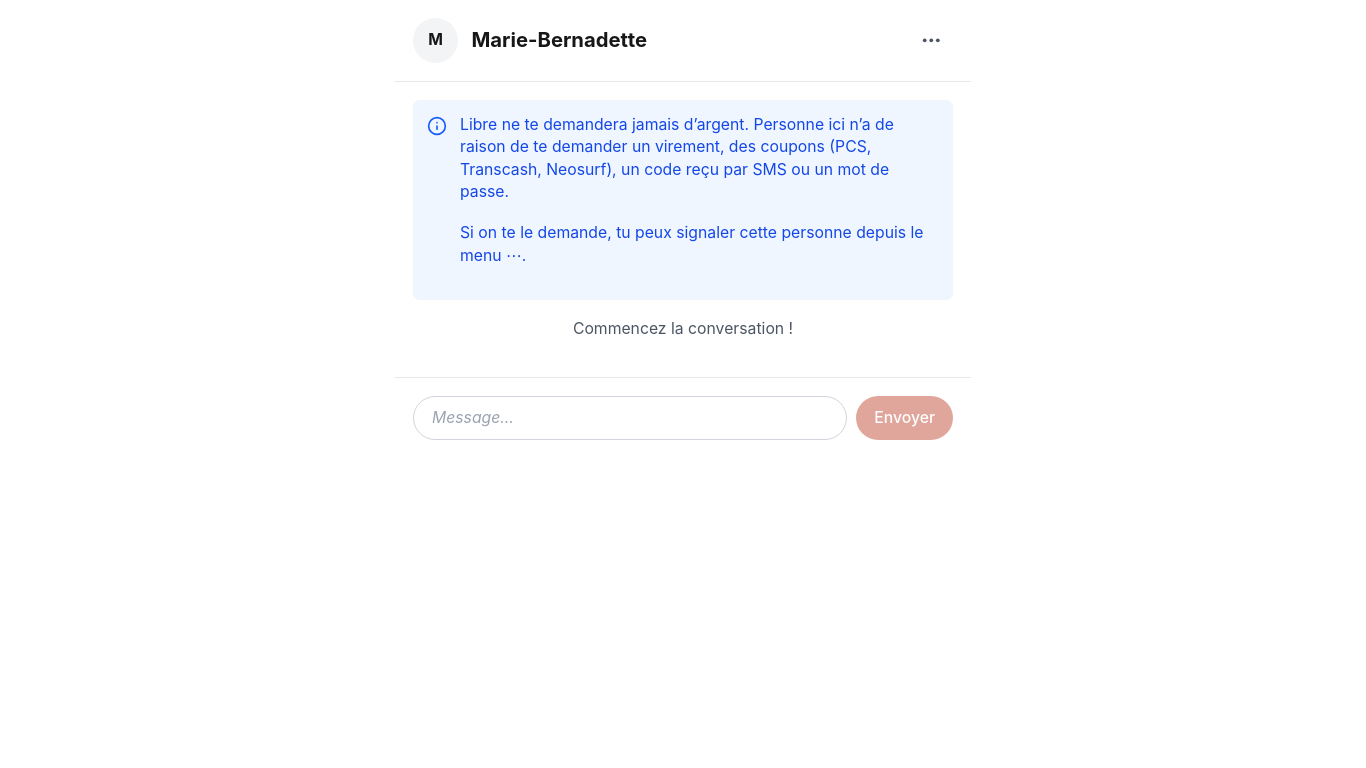
Scenario: en-tête du fil (#417) › le menu liste les deux actions, et le check-in s’ouvre depuis le menu
Click the button named "Plus d’actions" at (931, 40), box left=909, top=18, right=953, bottom=62
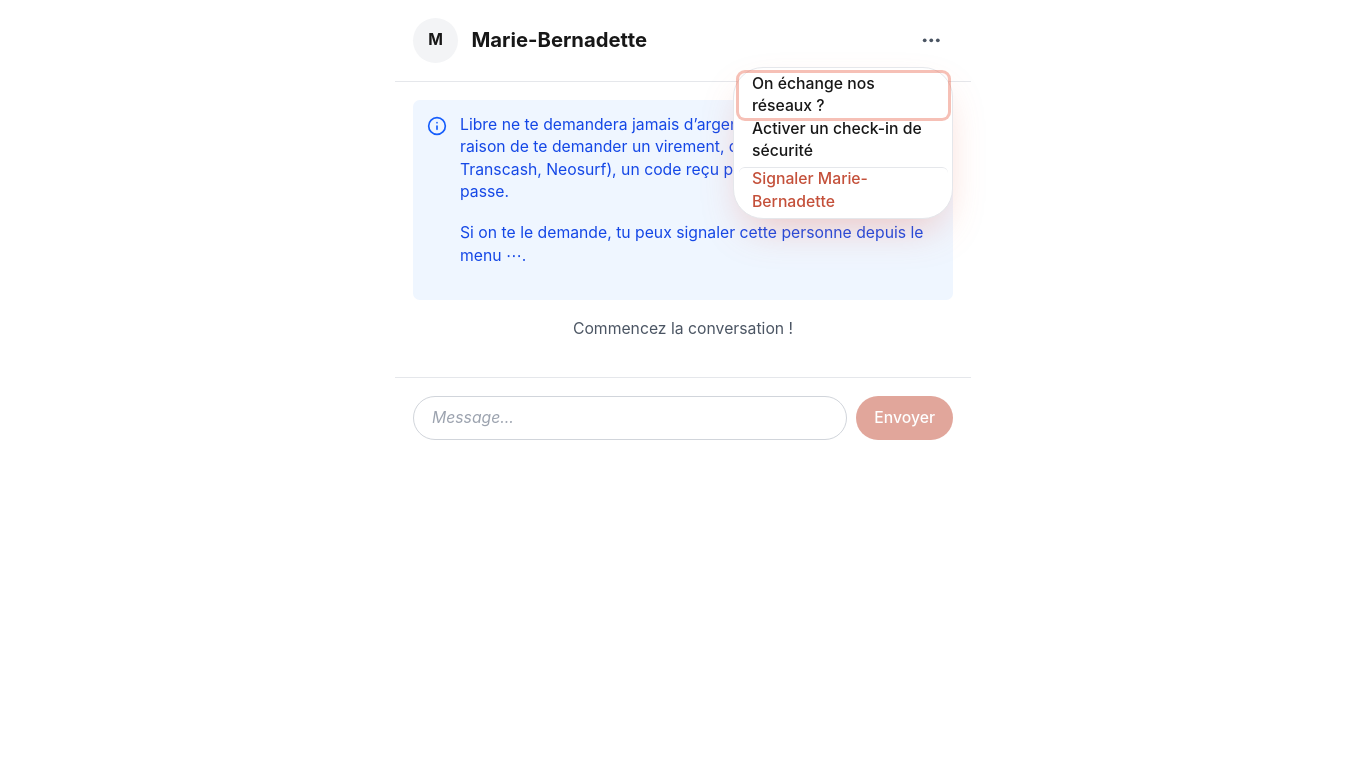
Result: the menu item "On échange nos réseaux ?" is shown at left=738, top=72, right=948, bottom=118
Click the menu item "Activer un check-in de sécurité" at (843, 140), box left=738, top=118, right=948, bottom=162
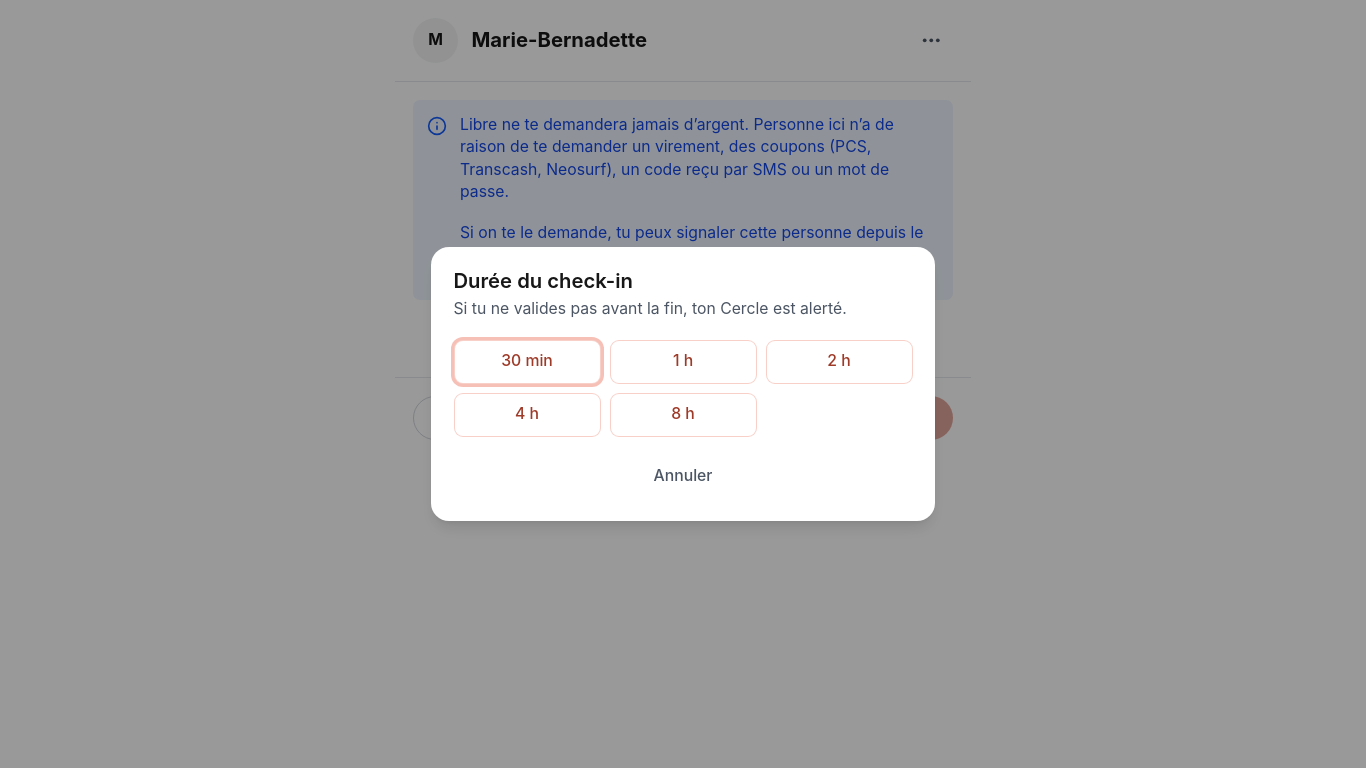
Result: the menu is gone
Result: the dialog is shown
Result: the button "30 min" is shown at left=454, top=340, right=600, bottom=384
